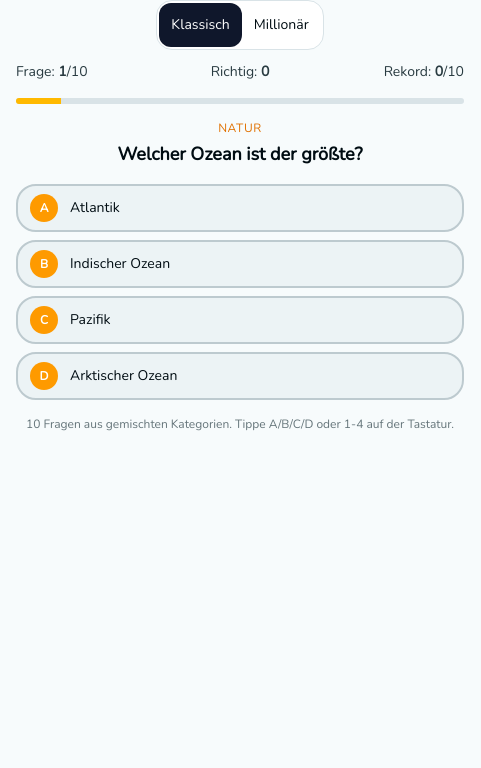
it: QuizGame › hides two answers after using the 50:50 joker
Click the button "Millionär" at (281, 25), box [242,3,321,47]
(page scrolled)
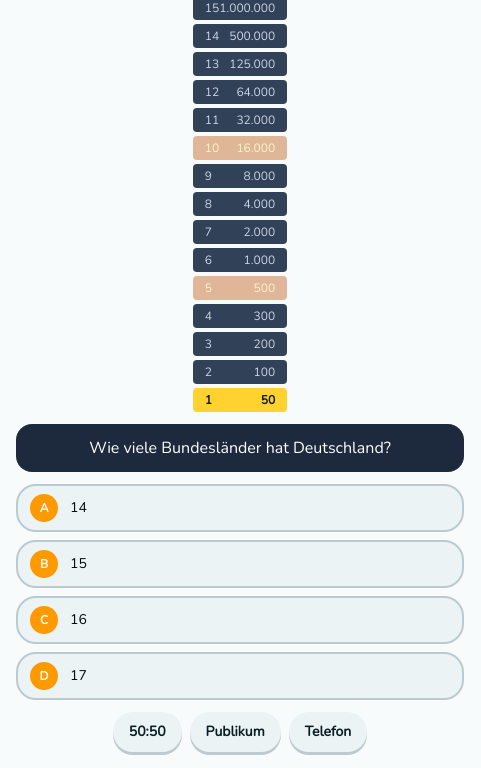
Click the button "50:50" at (147, 732), box [113,712,182,752]
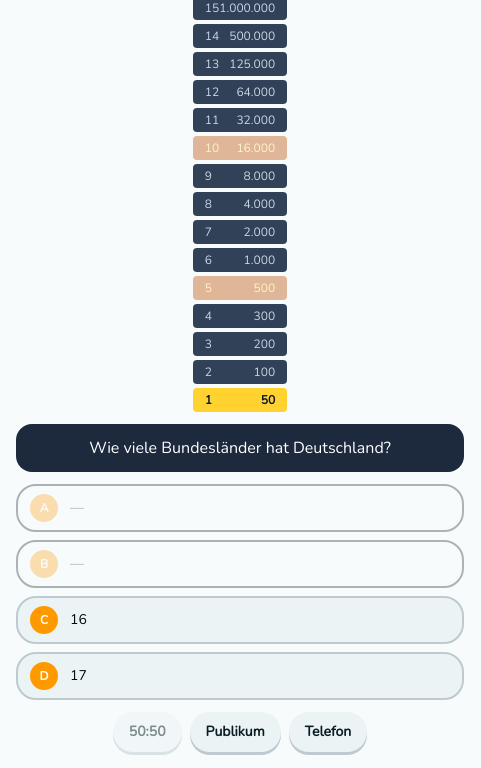
Expected: the button "50:50" is disabled, [113,712,182,752]
